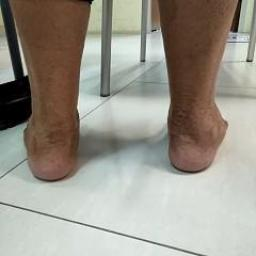Back View -Both Feet-: (12, 66, 241, 195)
